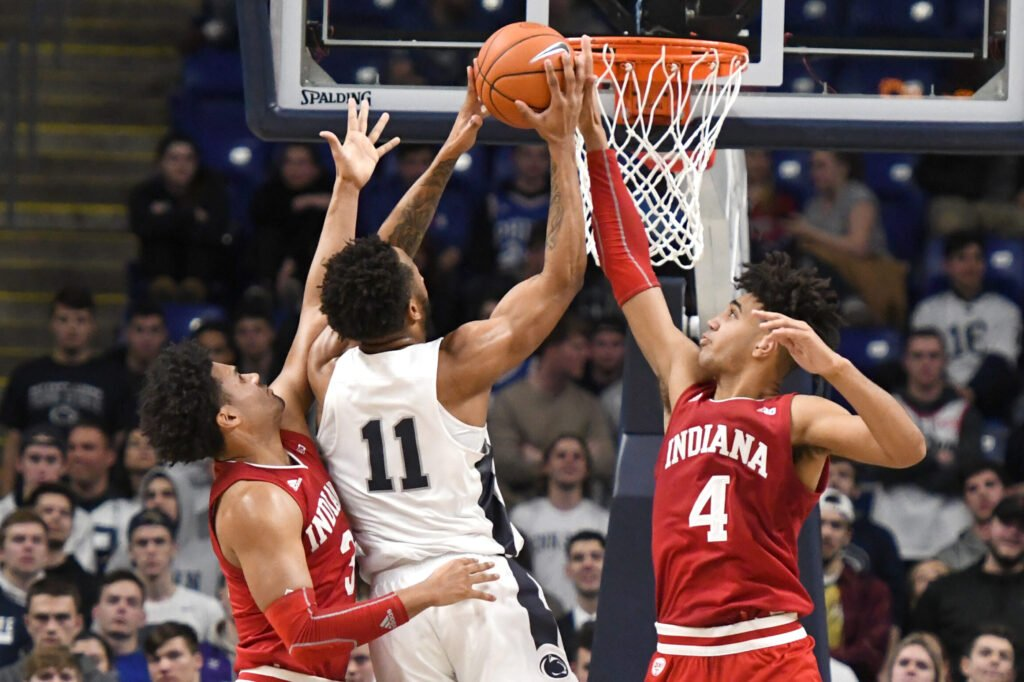basket: (558, 16, 757, 278)
block: (568, 47, 936, 676)
shoot: (319, 59, 584, 682)
